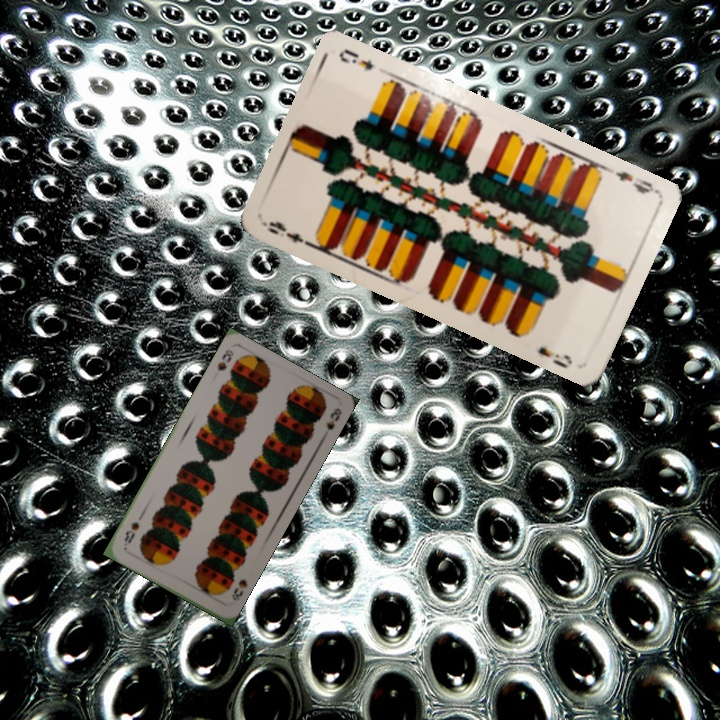E9: (261, 217, 317, 250), (610, 167, 660, 197)
S8: (213, 345, 236, 374), (227, 575, 250, 603)
